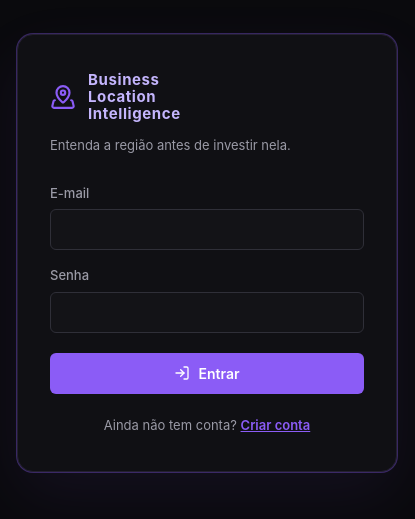
login › does not tell an unknown e-mail from a wrong password
Step 1. Type "ninguem@example.com" into the field labelled "E-mail" → (207, 230), box [50, 209, 364, 250]
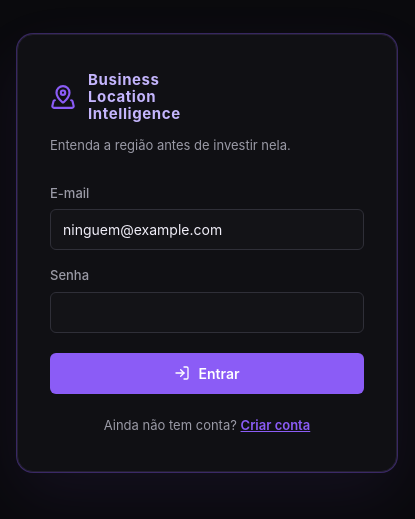
Step 2. Type "qualquer-coisa-12345" into the password field labelled "Senha" → (207, 312), box [50, 292, 364, 333]
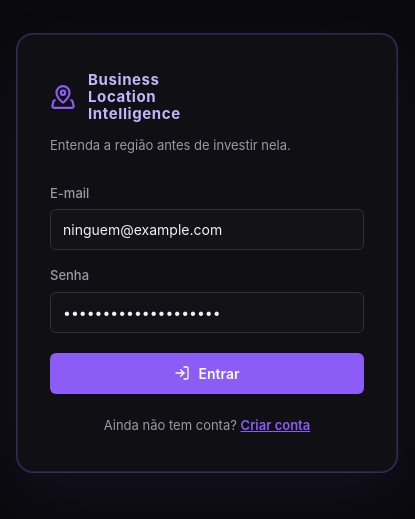
Step 3. Click the button "Entrar" → (207, 373), box [50, 353, 364, 394]
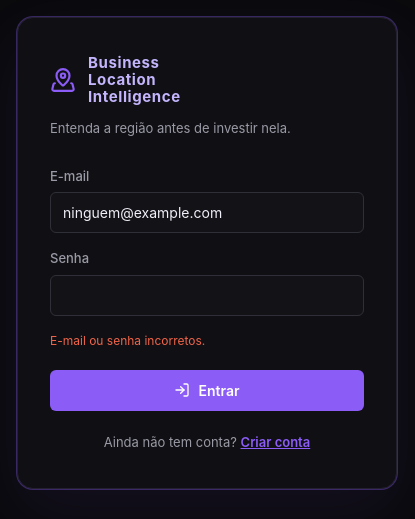
Expected: the text "E-mail ou senha incorretos." is shown, [50, 333, 205, 348]
